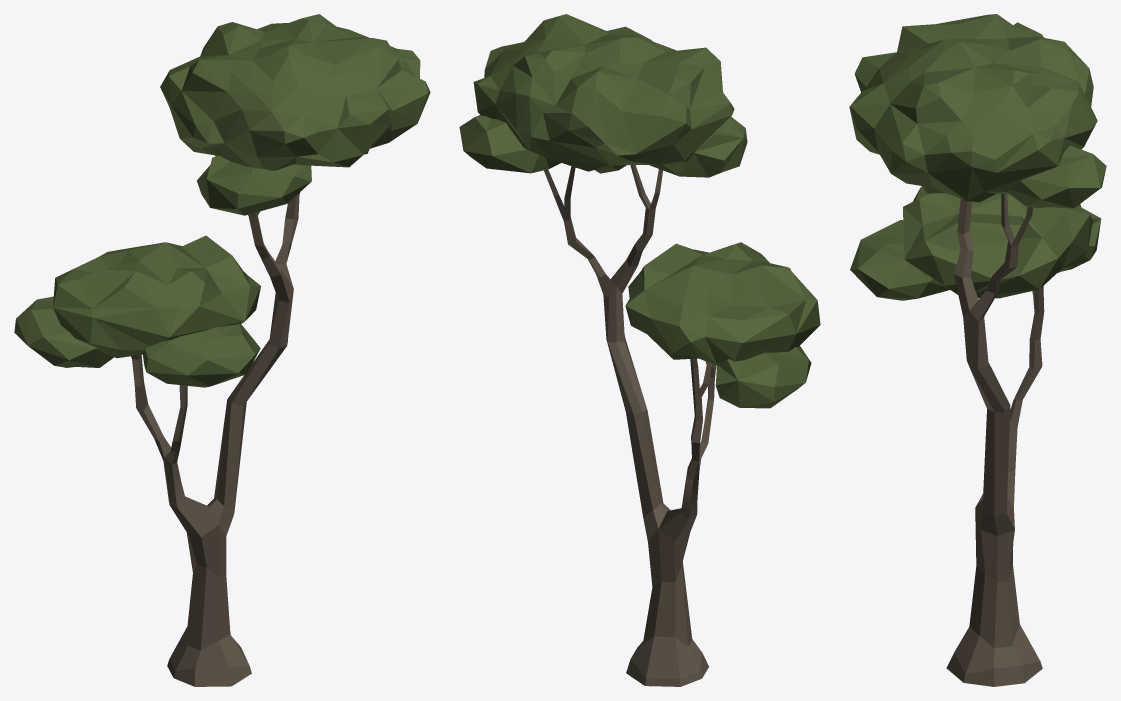
File: SM_Env_Tree_Tall_01.fbx
3 renders of one model, left to right at view 1: azimuth 30°, elevation 25°; view 2: azimuth 150°, elevation 25°; view 3: azimuth 270°, elevation 25°, orthographic. The views are drawn at different scales.
Visible parts, largest first — view 1: SM_Env_Tree_Tall_01; view 2: SM_Env_Tree_Tall_01; view 3: SM_Env_Tree_Tall_01.
Boxes of the visible parts, x1=… form: SM_Env_Tree_Tall_01: x1=14, y1=14, x2=430, y2=686; SM_Env_Tree_Tall_01: x1=459, y1=14, x2=820, y2=686; SM_Env_Tree_Tall_01: x1=849, y1=14, x2=1106, y2=686.
Bounding box in the file's own units: 313 × 522 × 184.
